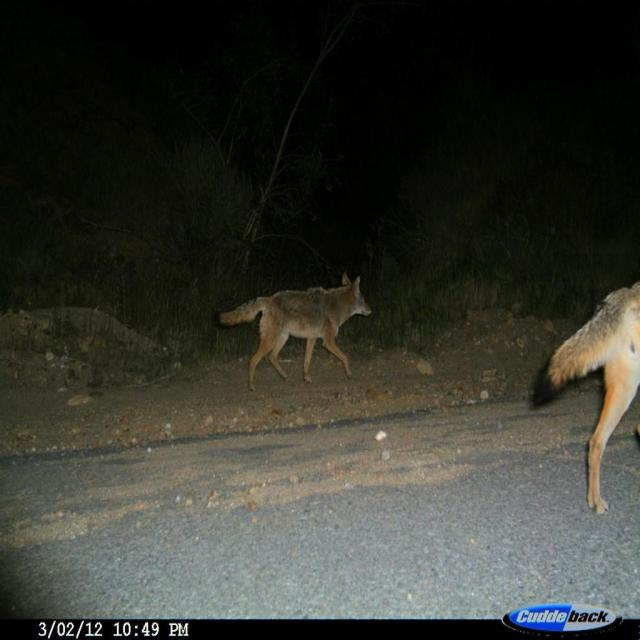coyote: (519, 276, 640, 527), (209, 268, 378, 402)
